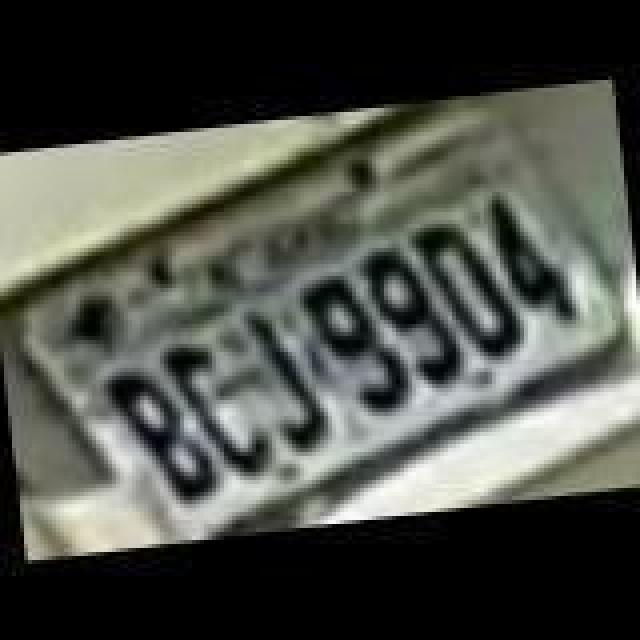4: (484, 190, 588, 338)
9: (300, 264, 412, 424), (362, 234, 470, 398)
B: (100, 356, 228, 508)
C: (156, 332, 276, 492)
J: (240, 300, 336, 460)
O: (410, 212, 526, 372)
